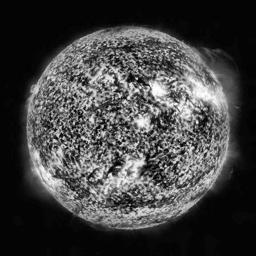solar flares: (191, 82, 221, 104), (123, 153, 144, 169), (134, 117, 153, 130), (115, 175, 135, 185), (152, 80, 164, 96)
sunspots: (62, 172, 88, 193), (144, 160, 171, 180), (155, 59, 185, 76), (124, 66, 148, 86), (113, 189, 144, 204), (195, 110, 212, 133), (155, 109, 172, 130), (120, 41, 137, 55), (107, 163, 122, 170)
